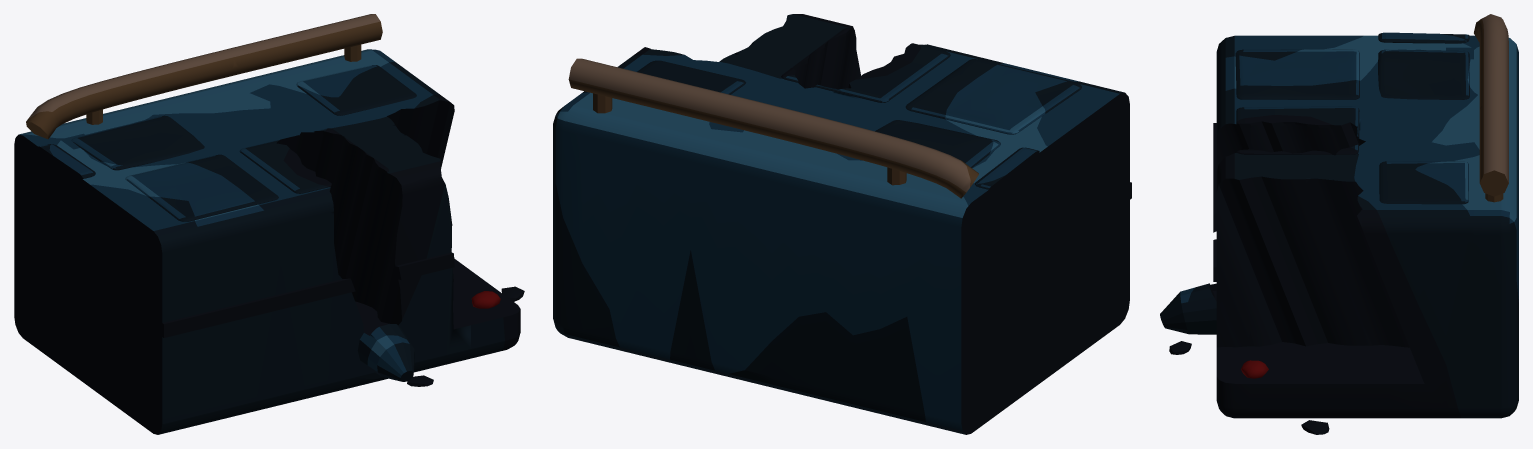
File: miners_tank_r_wreck.glb
The picture shows the model from 3 angles, left to right: view 1: azimuth 30°, elevation 25°; view 2: azimuth 150°, elevation 25°; view 3: azimuth 270°, elevation 25°; orthographic projection. The views are drawn at different scales.
Parts seen in each view (by area): view 1: miners_tank_r_wreck; view 2: miners_tank_r_wreck; view 3: miners_tank_r_wreck.
Boxes of the visible parts, x1,y1,x2,y2 form: miners_tank_r_wreck: (14, 14, 524, 434); miners_tank_r_wreck: (553, 14, 1131, 434); miners_tank_r_wreck: (1160, 14, 1518, 434).
Size of the model in its own units: 21.61 by 12.15 by 16.03.
